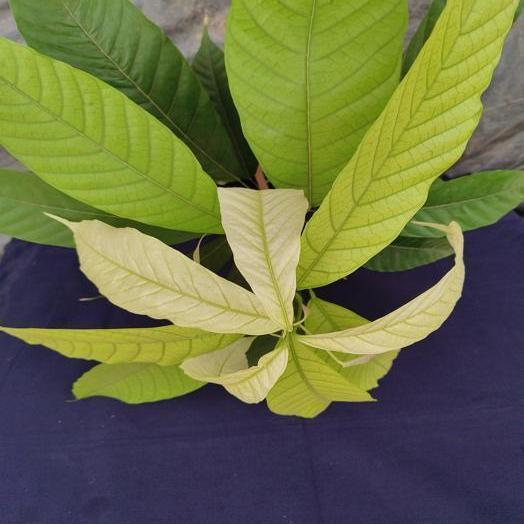Healthy Leaf: (10, 0, 248, 181), (0, 168, 193, 248), (192, 19, 257, 177), (401, 171, 523, 237)
Iron: (298, 0, 517, 287), (0, 38, 221, 231), (227, 0, 407, 205), (53, 216, 278, 334), (299, 222, 463, 354), (218, 189, 307, 330), (0, 325, 241, 365), (266, 335, 372, 417), (181, 337, 287, 402), (73, 362, 204, 403), (305, 297, 368, 333)
